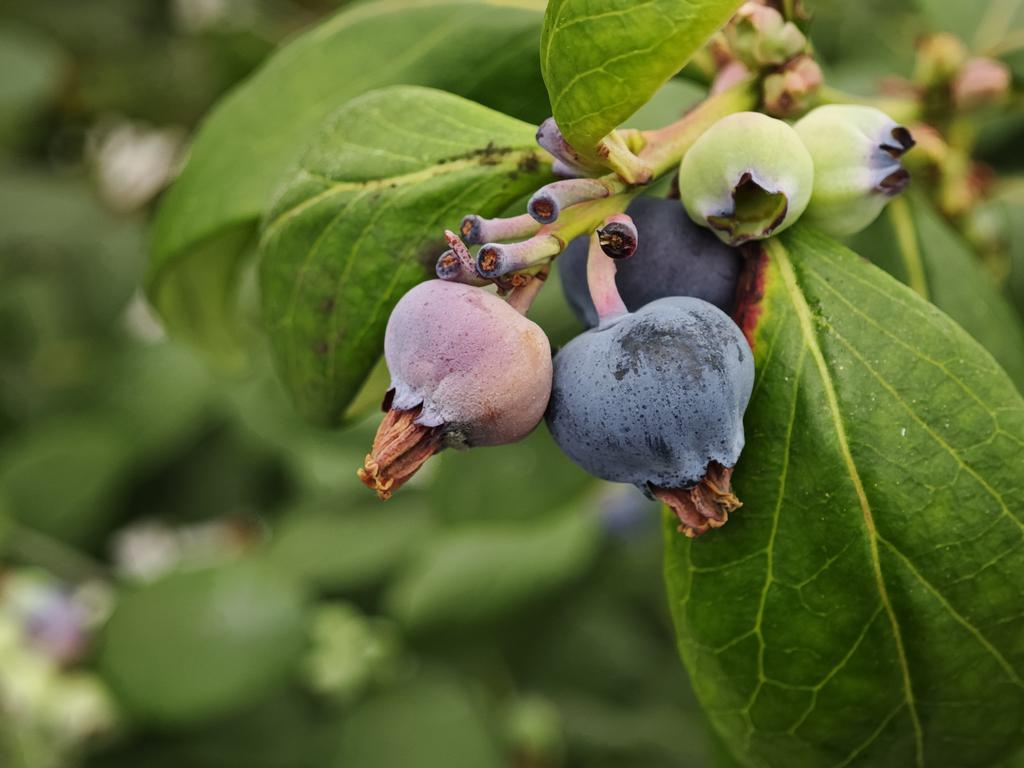RipeBlueBerry: (556, 294, 762, 501)
Semi-RipeBlueBerry: (380, 280, 556, 466)
UnripeBlueBerry: (679, 110, 813, 241)
